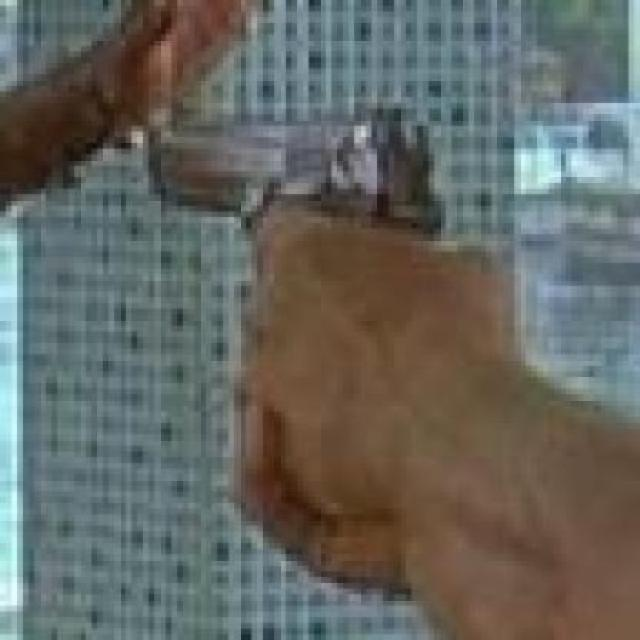rifle: (150, 106, 436, 228)
